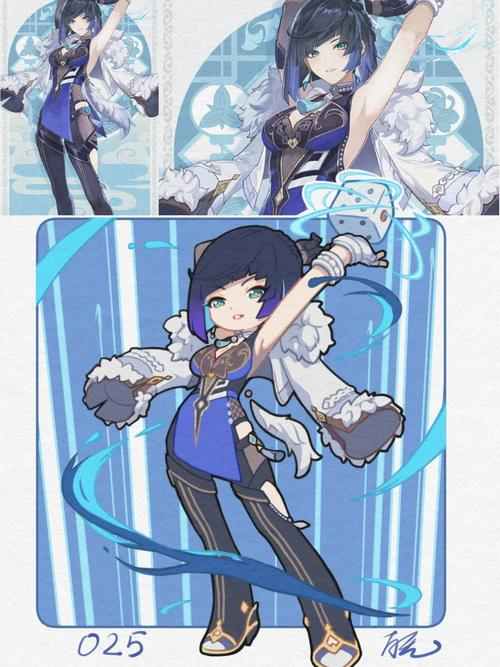夜兰: (169, 227, 388, 667), (258, 4, 456, 219), (35, 1, 128, 212)
